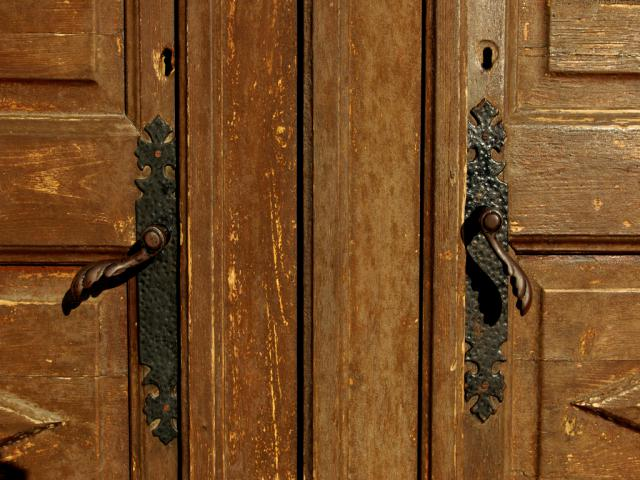Door-handle: (68, 113, 181, 448), (465, 92, 532, 424)
